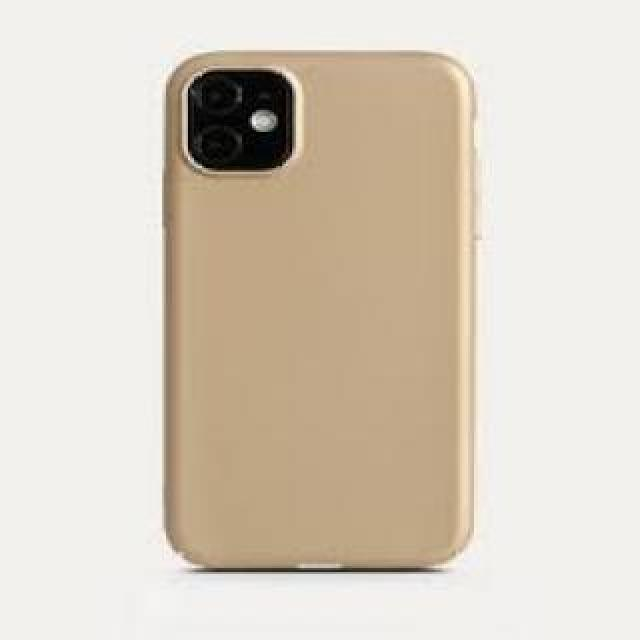smart phone: (123, 29, 495, 588)
